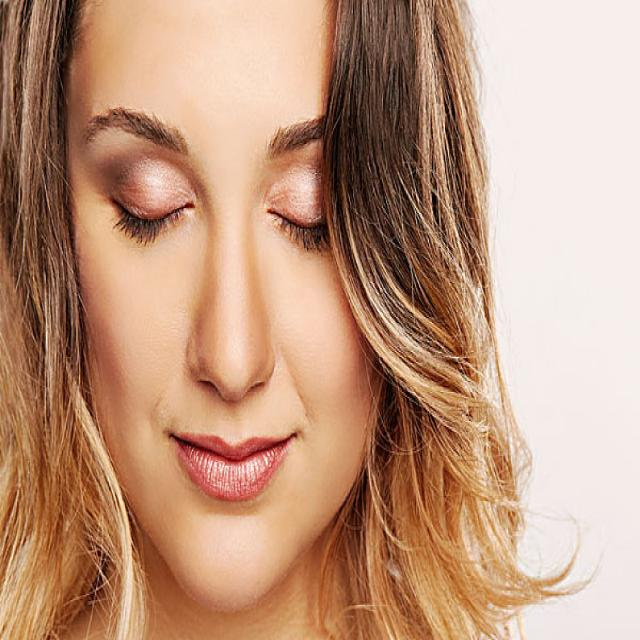Closed: (105, 151, 199, 248), (265, 168, 344, 252)
